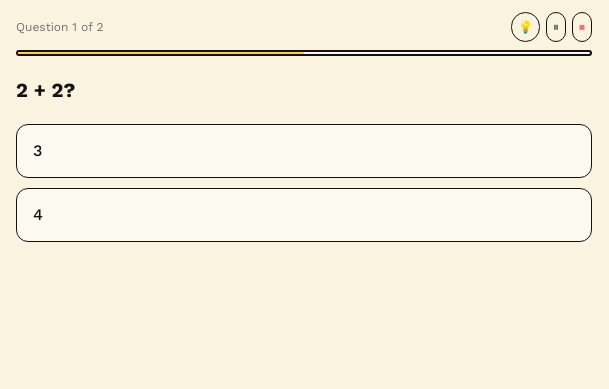
it: QuizQuestion › disables all choice buttons after answering
The width and height of the screenshot is (609, 389).
Click the button "3": (38, 150) [16,124,592,178]
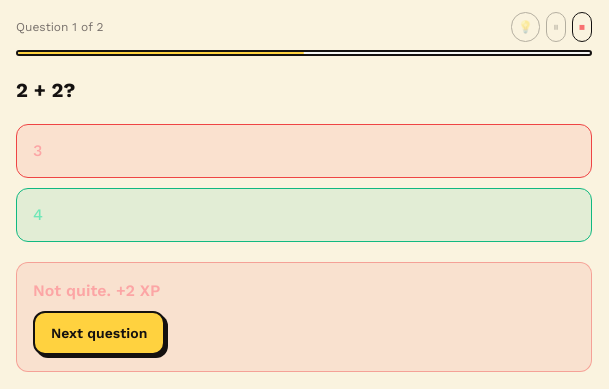
Result: the text "Not quite. +2 XP" is shown at [33,281,160,300]
Result: the button "3" is disabled at [16,124,592,178]
Result: the button "4" is disabled at [16,188,592,242]
